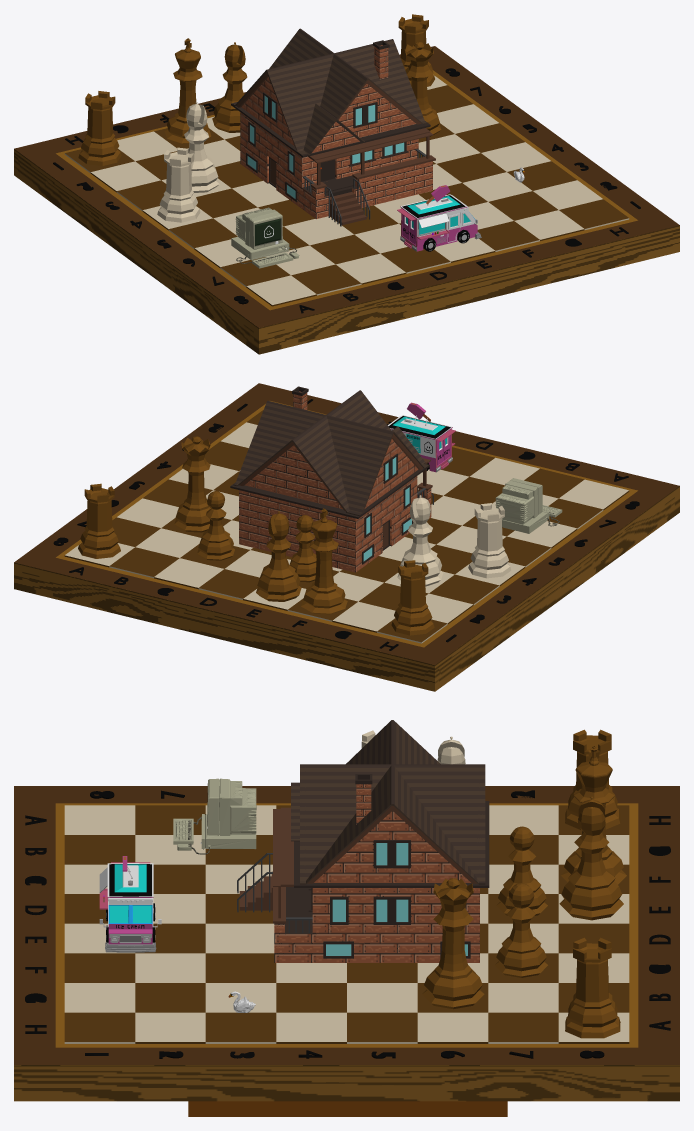
3 views of the same model, one above another, from view 1: azimuth 30°, elevation 25°; view 2: azimuth 150°, elevation 25°; view 3: azimuth 270°, elevation 25° (orthographic). The views are drawn at different scales.
Visible parts, largest first — view 1: Cube.002, Cube.469, VEHICLES_ICE_CREAM_TRUCK, OBJRANDOM_RETRO_PC; view 2: Cube.002, Cube.469, OBJRANDOM_RETRO_PC, VEHICLES_ICE_CREAM_TRUCK; view 3: Cube.002, Cube.469, UNDERGROUND_ART_PIECE_VAN_GOGH, VEHICLES_ICE_CREAM_TRUCK, OBJRANDOM_RETRO_PC.
Boxes of the visible parts, <box> form: Cube.002: <box>14,14,679,354</box>; Cube.469: <box>231,28,435,226</box>; VEHICLES_ICE_CREAM_TRUCK: <box>397,185,481,251</box>; OBJRANDOM_RETRO_PC: <box>231,207,299,268</box>; Cube.002: <box>14,383,679,691</box>; Cube.469: <box>230,386,433,572</box>; OBJRANDOM_RETRO_PC: <box>495,478,562,533</box>; VEHICLES_ICE_CREAM_TRUCK: <box>388,402,455,472</box>; Cube.002: <box>14,729,679,1101</box>; Cube.469: <box>237,720,489,962</box>; UNDERGROUND_ART_PIECE_VAN_GOGH: <box>188,1101,507,1116</box>; VEHICLES_ICE_CREAM_TRUCK: <box>99,856,161,952</box>; OBJRANDOM_RETRO_PC: <box>173,778,256,854</box>.
Bounding box in the file's own units: 3981 × 1610 × 4012.
Materials: 41 (4 with a texture image).
